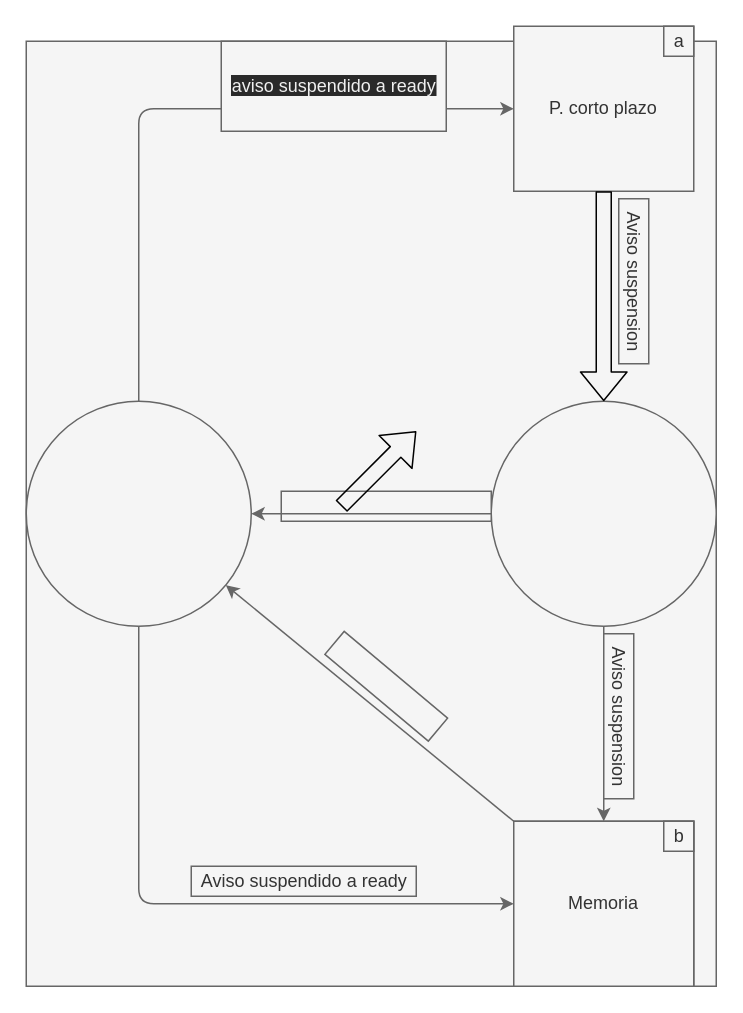
The diagram is 743 pixels wide and 1013 high, and some of its shapes have lost their labels. Here are the shapes that lost their labels. From the top down, the centre of each, then its label:
pixel 138 513: Suspension a ready
pixel 385 505: proceso desbloqueado
pixel 603 513: Gestionar suspension
pixel 385 685: N tabla pagina
